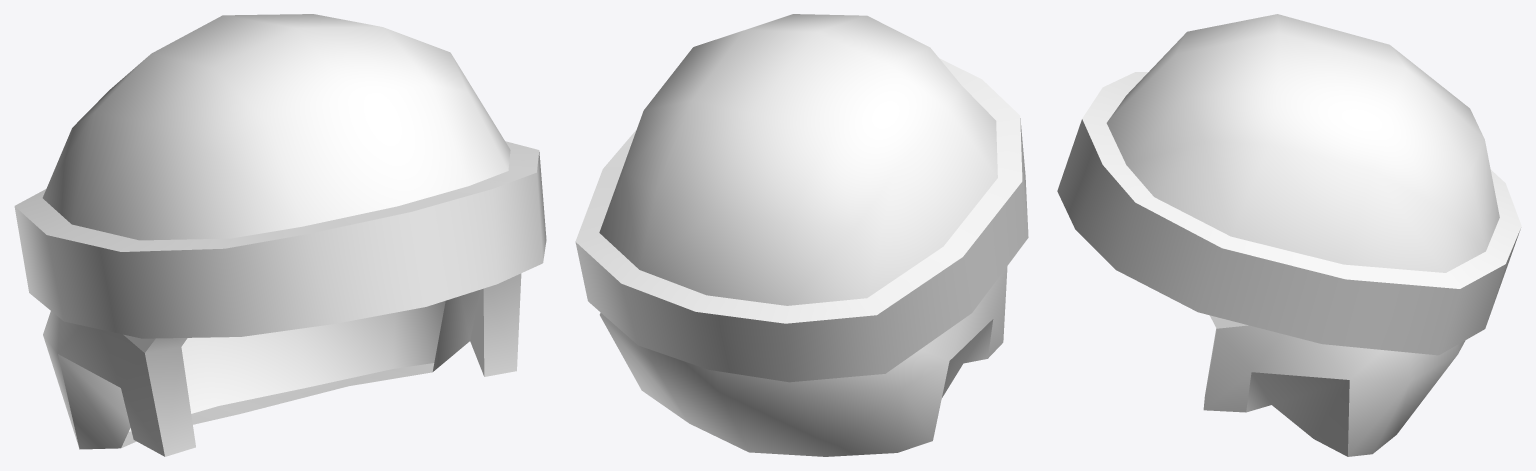
File: Male_Hat_01_v4.fbx
3 views of the same model, side by side, from view 1: azimuth 30°, elevation 25°; view 2: azimuth 150°, elevation 25°; view 3: azimuth 270°, elevation 25° (orthographic). The views are drawn at different scales.
Visible parts, largest first — view 1: Male_Hat_01_v4; view 2: Male_Hat_01_v4; view 3: Male_Hat_01_v4.
Part boxes in pixels (box(x1,y1,x2,y2)): Male_Hat_01_v4: box(14, 14, 546, 456); Male_Hat_01_v4: box(575, 14, 1028, 456); Male_Hat_01_v4: box(1057, 14, 1521, 456).
Bounding box in the file's own units: 57.59 × 56.66 × 63.86.
